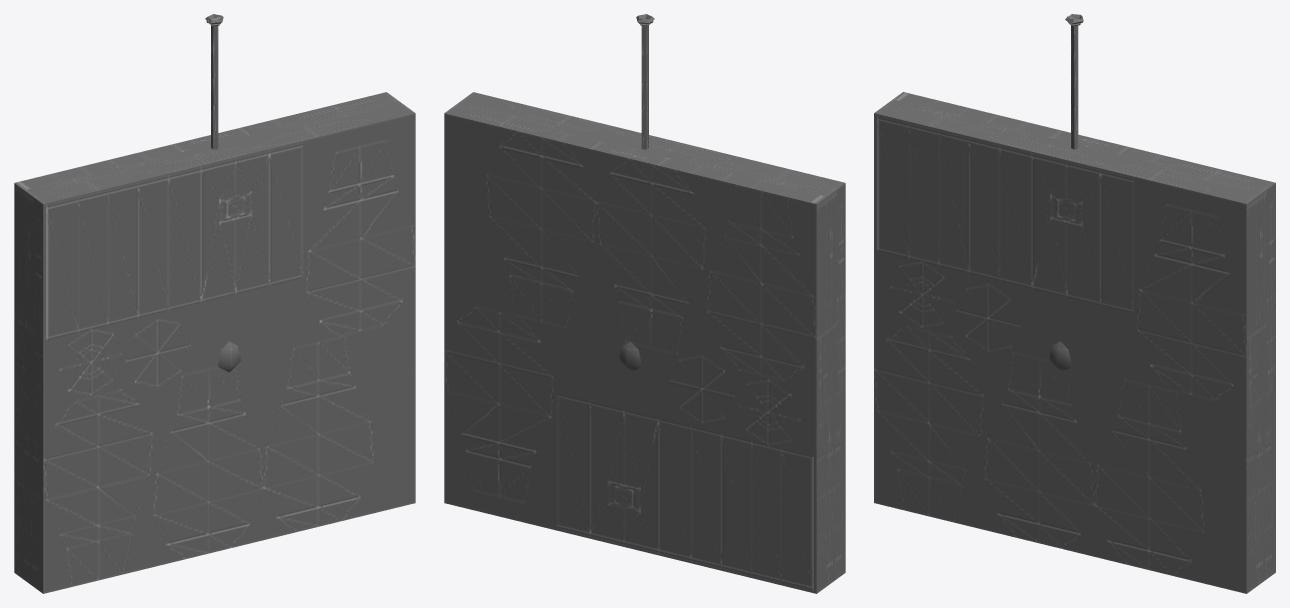
The model's file is lights_light_bulb01.dae.
The picture shows the model from 3 angles, left to right: view 1: azimuth 30°, elevation 25°; view 2: azimuth 150°, elevation 25°; view 3: azimuth 330°, elevation 25°; orthographic projection.
Parts seen in each view (by area): view 1: _bb_bulbbb1_bulb_halo01, cord; view 2: _bb_bulbbb1_bulb_halo01, cord; view 3: _bb_bulbbb1_bulb_halo01, cord.
Part boxes in pixels (x1,y1,x2,y2): _bb_bulbbb1_bulb_halo01: [14, 92, 415, 593]; cord: [211, 17, 218, 149]; _bb_bulbbb1_bulb_halo01: [444, 92, 845, 593]; cord: [641, 17, 648, 149]; _bb_bulbbb1_bulb_halo01: [874, 92, 1275, 593]; cord: [1071, 17, 1078, 149].
Size of what is drawn, in the model's own units: 0.6657 by 0.8893 by 0.1074.
